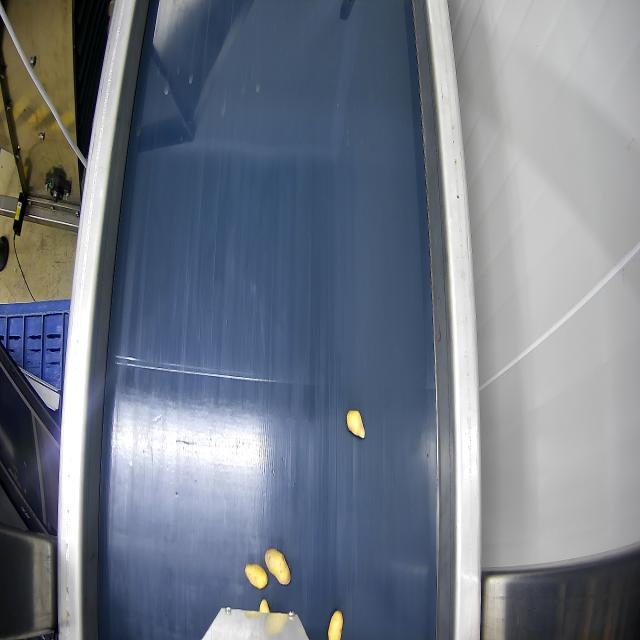Baby Potato: (265, 549, 290, 584), (245, 564, 267, 589), (347, 410, 364, 438), (328, 611, 342, 639), (259, 600, 269, 613)
